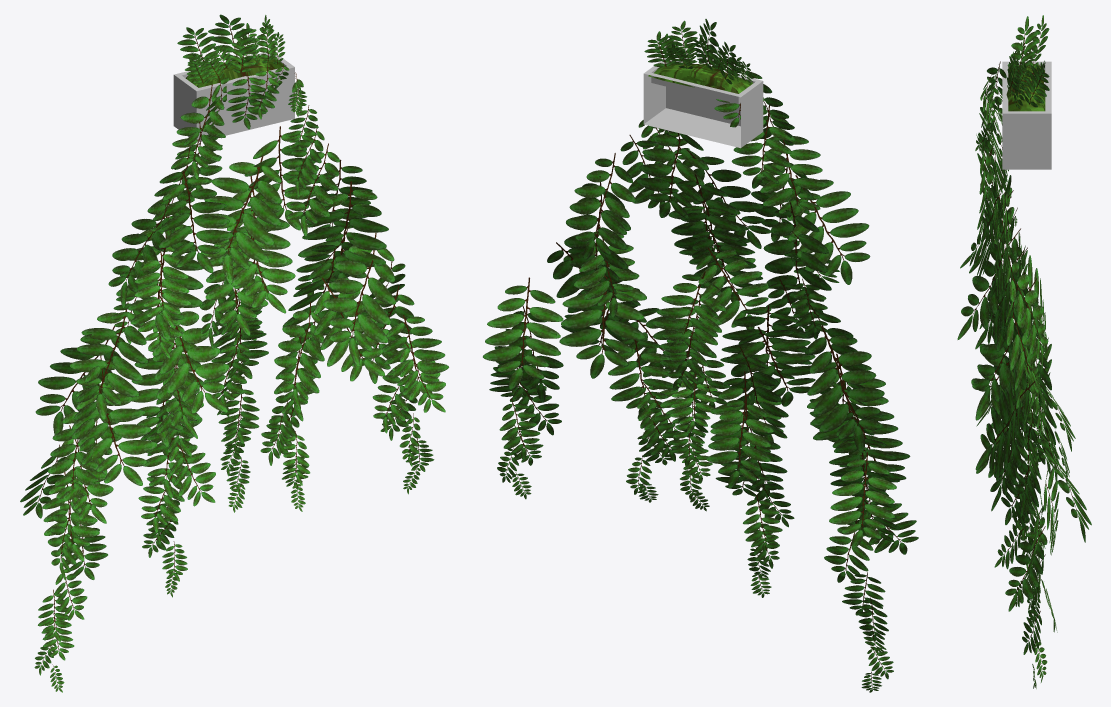
File: sm_foliage_vines.fbx
The picture shows the model from 3 angles, left to right: view 1: azimuth 30°, elevation 25°; view 2: azimuth 150°, elevation 25°; view 3: azimuth 270°, elevation 25°; orthographic projection. The views are drawn at different scales.
Parts seen in each view (by area): view 1: sm_wall_flowerPot; view 2: sm_wall_flowerPot; view 3: sm_wall_flowerPot.
Part boxes in pixels (x1,y1,x2,y2): sm_wall_flowerPot: (20, 14, 448, 692); sm_wall_flowerPot: (483, 19, 918, 692); sm_wall_flowerPot: (957, 15, 1091, 688).
Size of the model in its own units: 863 by 1244 by 227.
